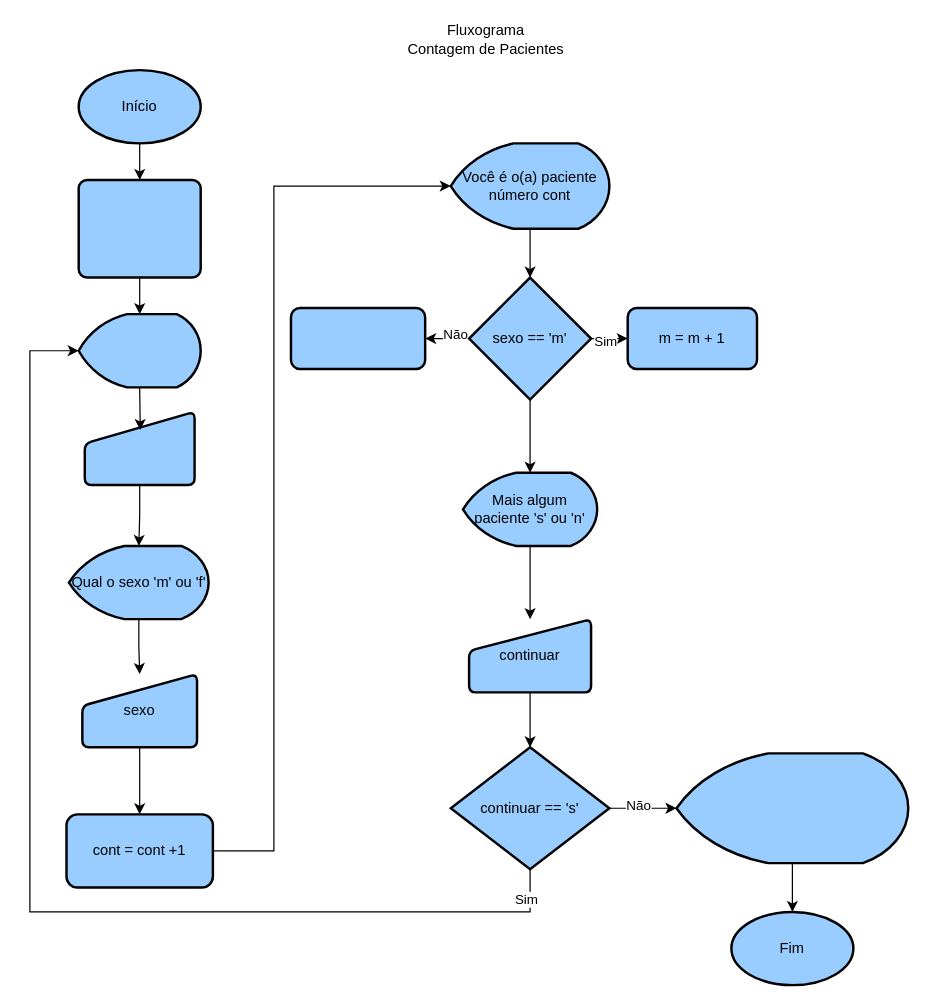
This 931x1007 diagram has some shape labels left out. Each missing label, with the box of its shape:
cont=0; m=0; f=0;: (77, 178, 201, 278)
f = f + 1: (289, 306, 426, 370)
Hoje foram atendidos cont pacientes m do sexo masculino e f do sexo feminino: (675, 752, 909, 864)
nome: (83, 410, 195, 486)
Qual o seu nome?: (77, 312, 201, 388)
